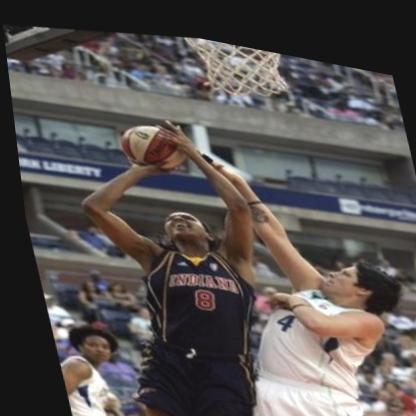basketball: (113, 110, 189, 178)
